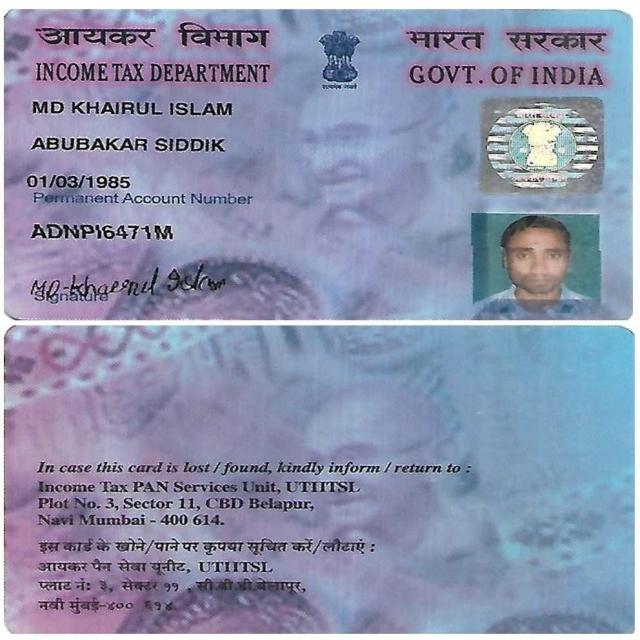pan_card: (6, 12, 624, 316), (11, 330, 628, 629)
